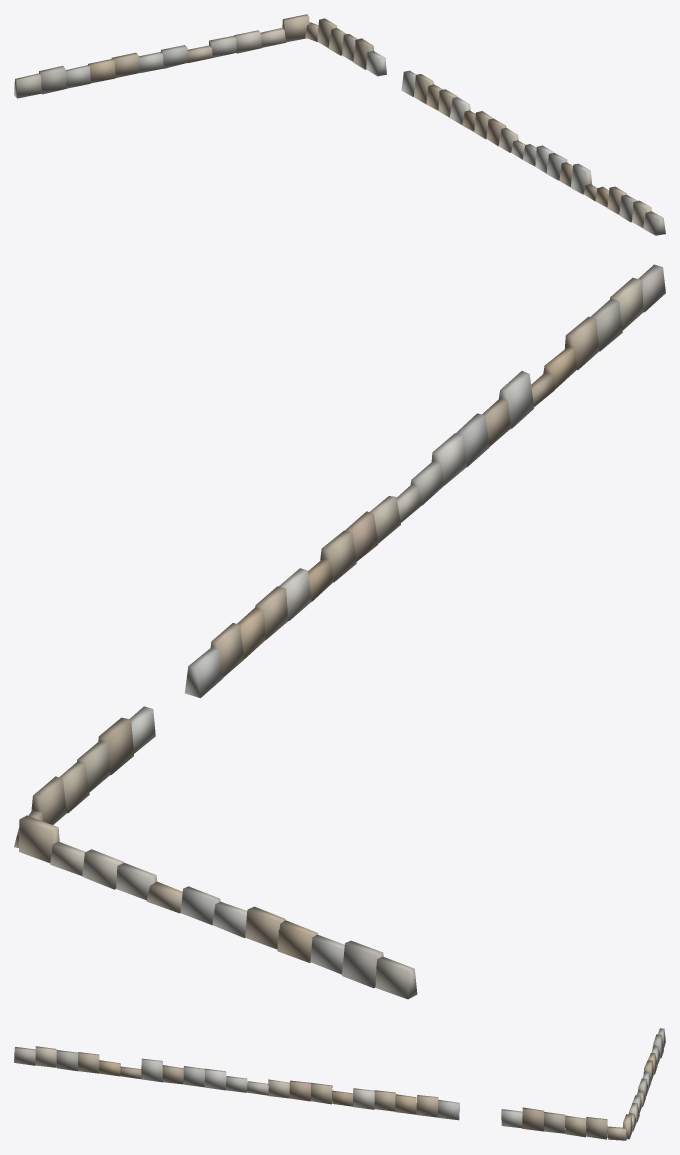
Rendered from farm_20_38_far.glb.
3 views of the same model, one above another, from view 1: azimuth 30°, elevation 25°; view 2: azimuth 150°, elevation 25°; view 3: azimuth 270°, elevation 25° (orthographic). The views are drawn at different scales.
Parts seen in each view (by area): view 1: geometry_0; view 2: geometry_0; view 3: geometry_0.
Part boxes in pixels (x1=…): geometry_0: x1=14, y1=14, x2=665, y2=235; geometry_0: x1=14, y1=264, x2=665, y2=999; geometry_0: x1=14, y1=1028, x2=665, y2=1140.
Bounding box in the file's own units: 19.16 × 7.42 × 48.07.
